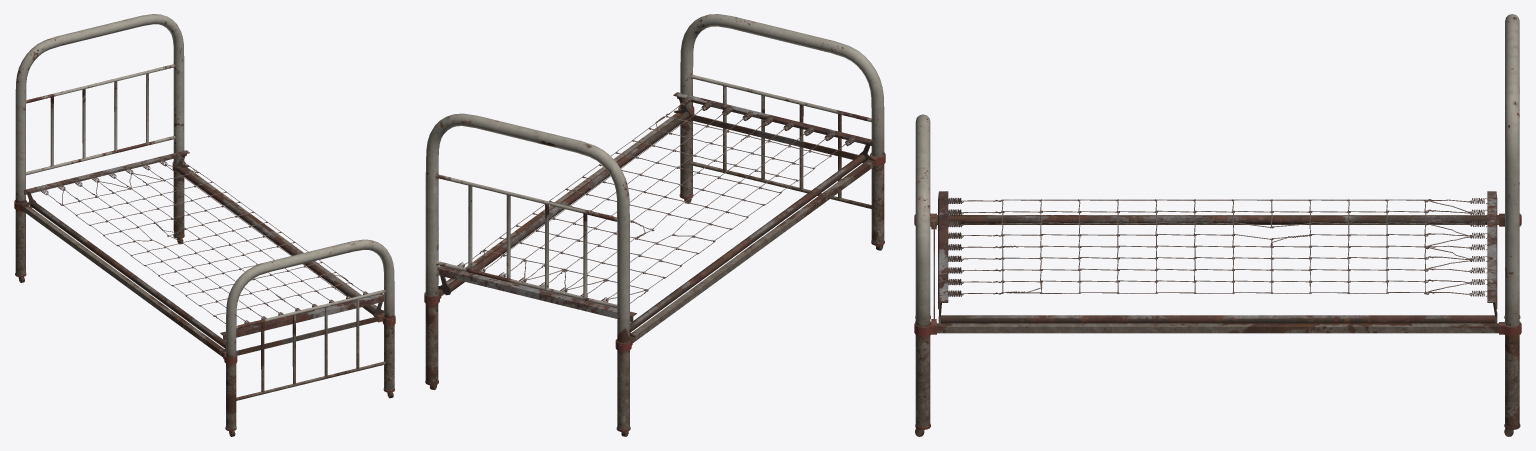
Rendered from old_bed_frame.glb.
3 renders of one model, left to right at view 1: azimuth 30°, elevation 25°; view 2: azimuth 150°, elevation 25°; view 3: azimuth 270°, elevation 25°, orthographic. The views are drawn at different scales.
Visible parts, largest first — view 1: old_bed_frame; view 2: old_bed_frame; view 3: old_bed_frame.
Boxes of the visible parts, x1,y1,x2,y2 form: old_bed_frame: (14, 14, 395, 436); old_bed_frame: (424, 14, 885, 436); old_bed_frame: (914, 14, 1521, 436).
Bounding box in the file's own units: 0.9047 × 1.2 × 2.
1 material, 1 textured.
